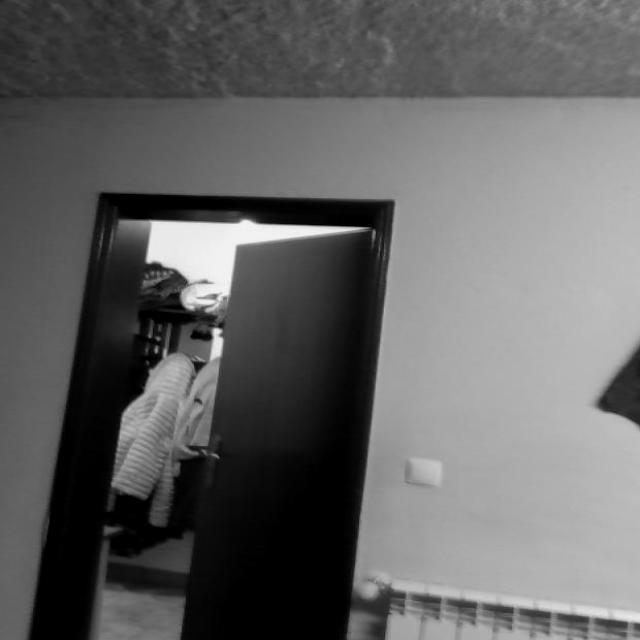door: (167, 221, 379, 640)
